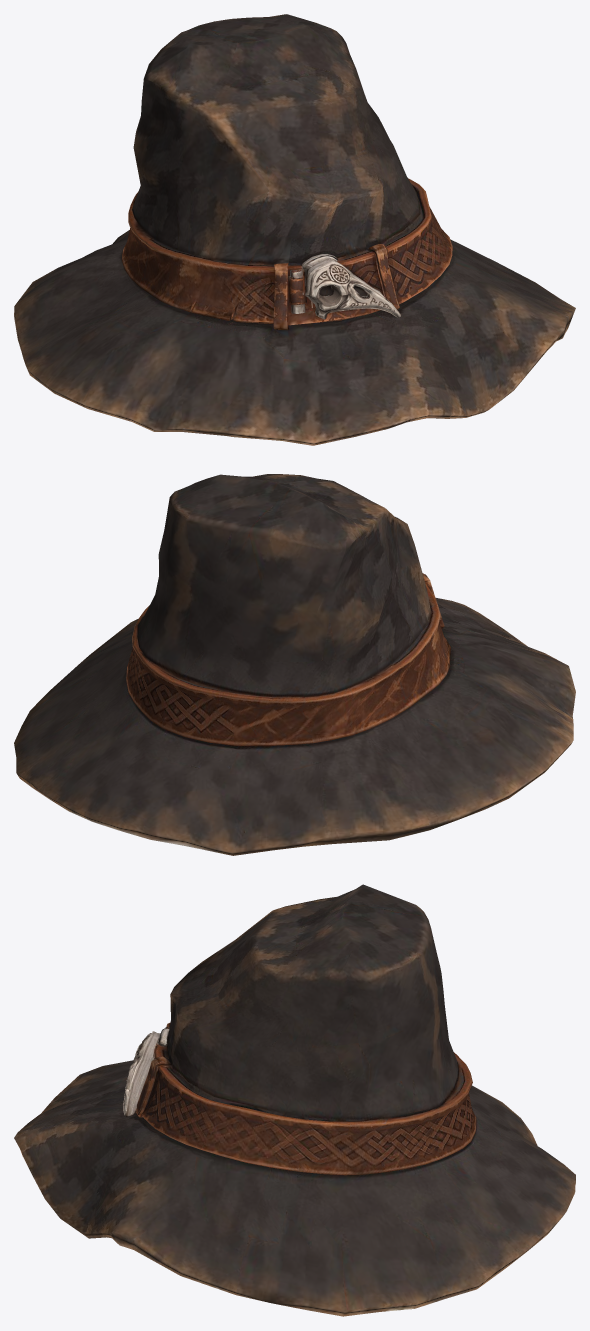
Rendered from HatWanderer.fbx.
3 views of the same model, one above another, from view 1: azimuth 30°, elevation 25°; view 2: azimuth 150°, elevation 25°; view 3: azimuth 270°, elevation 25° (orthographic). The views are drawn at different scales.
Visible parts, largest first — view 1: Mesh_0; view 2: Mesh_0; view 3: Mesh_0.
Part boxes in pixels (x1,y1,x2,y2): Mesh_0: (14,14,575,445); Mesh_0: (14,474,575,855); Mesh_0: (14,884,575,1316).
Size of the model in its own units: 92.58 by 54.64 by 95.61.
Materials: 1 (1 with a texture image).
